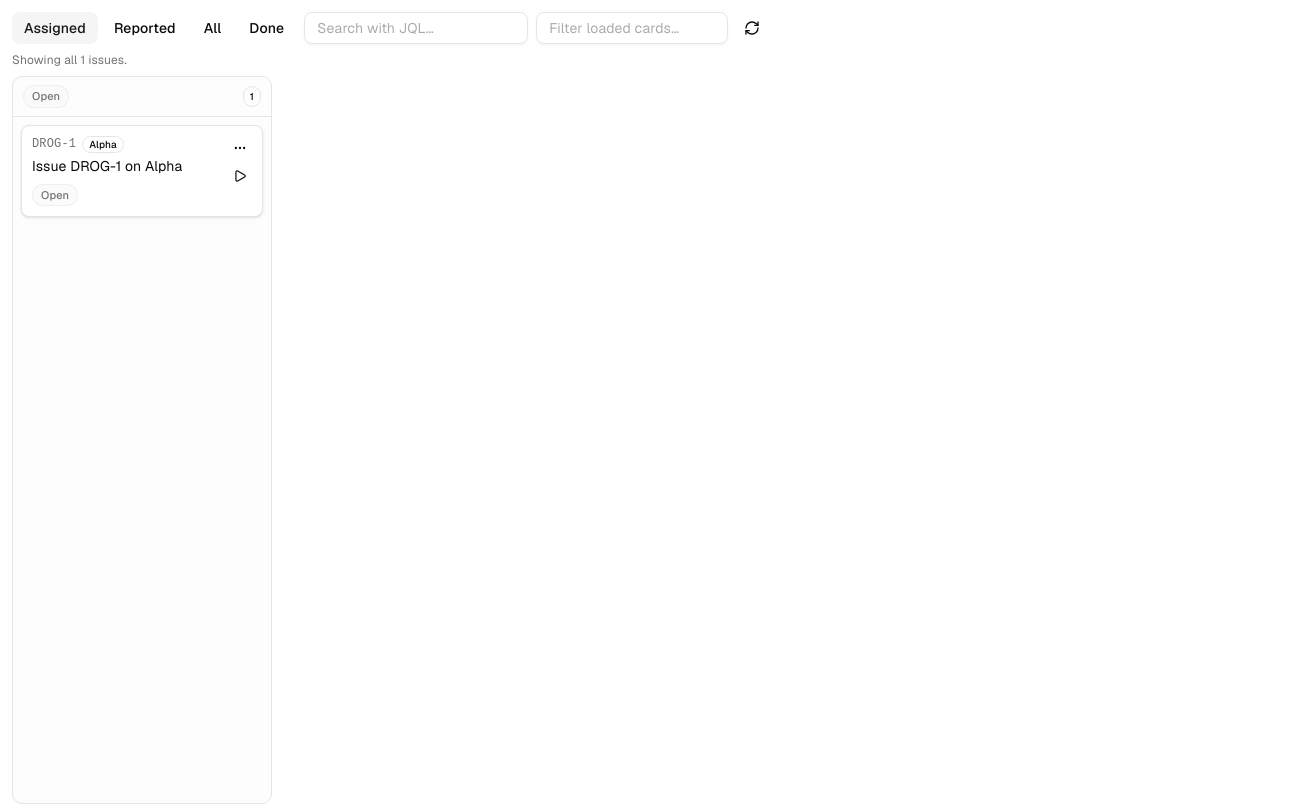
Test: JiraKanbanBoard › shows a superseded remote mutation instead of local success
Expected: the list item "DROG-1 Alpha Issue DROG-1 on Alpha Open" is shown, [21,124,263,217]
Click the button named "Transitions for DROG-1". click: (240, 148)
box: [228,136,252,160]
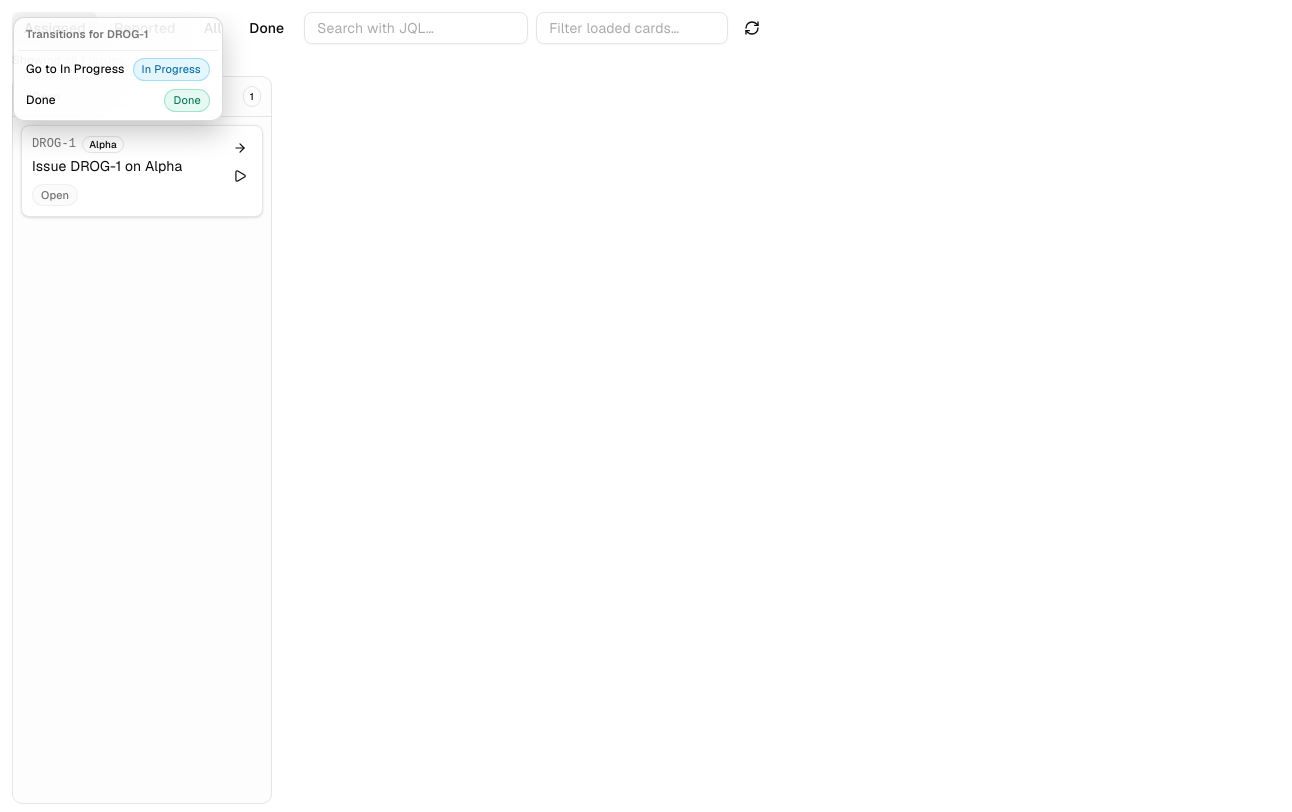
Result: the menu item "Go to In Progress In Progress" is shown
Click the menu item "Go to In Progress In Progress". click: (118, 69)
box: [18,54,218,84]
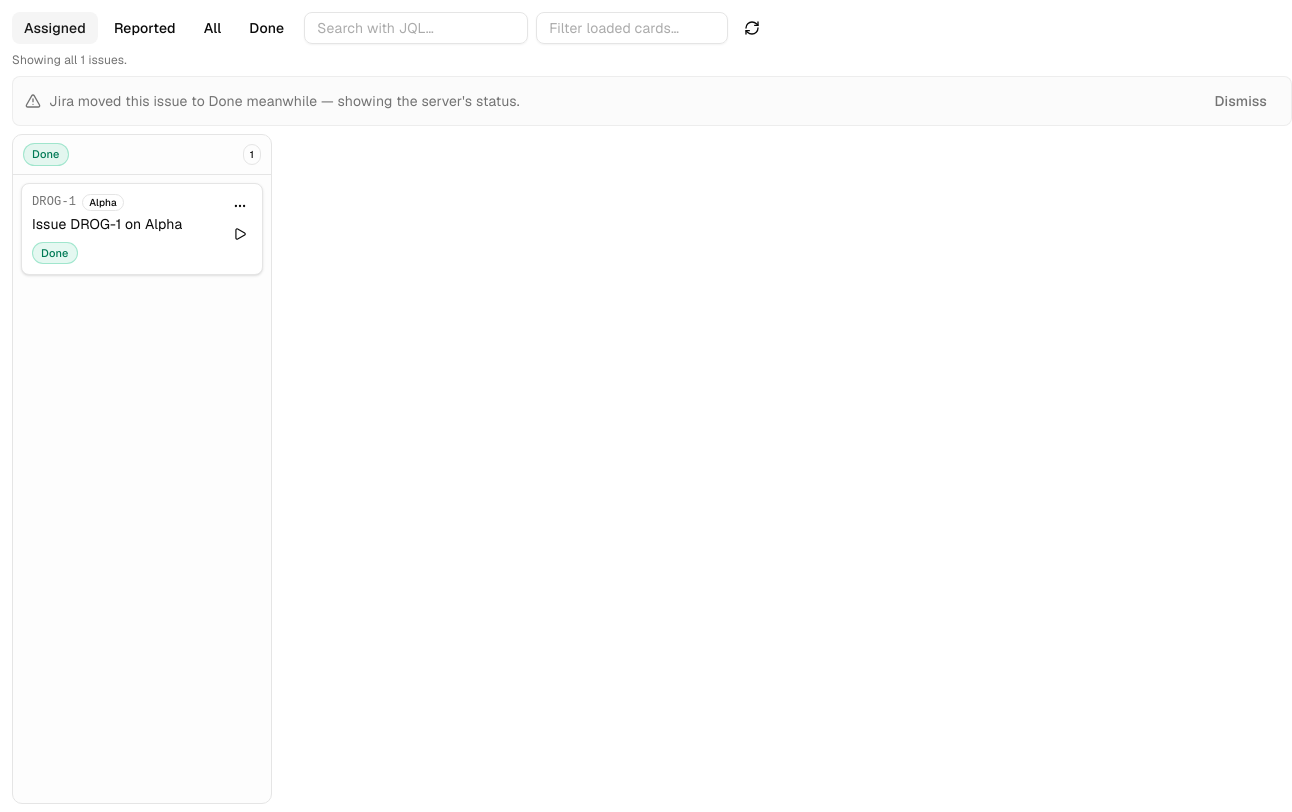
Result: the text "moved this issue to Done" is shown at [49,92,520,110]
Result: the text "Done" below "Issue DROG-1 on Alpha" is shown at [41,246,68,260]
